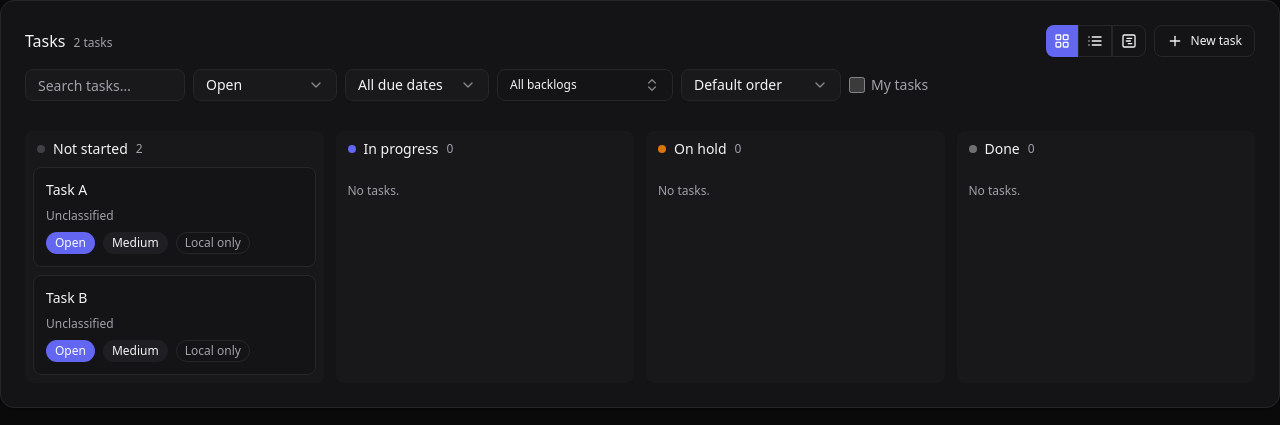
Test: TaskListSection › Bulk actions (issue #149) › reports a partial failure with counts and narrows the selection to the failed tasks
Click the button named "List".
click(1095, 41)  # box [1078,25,1112,57]
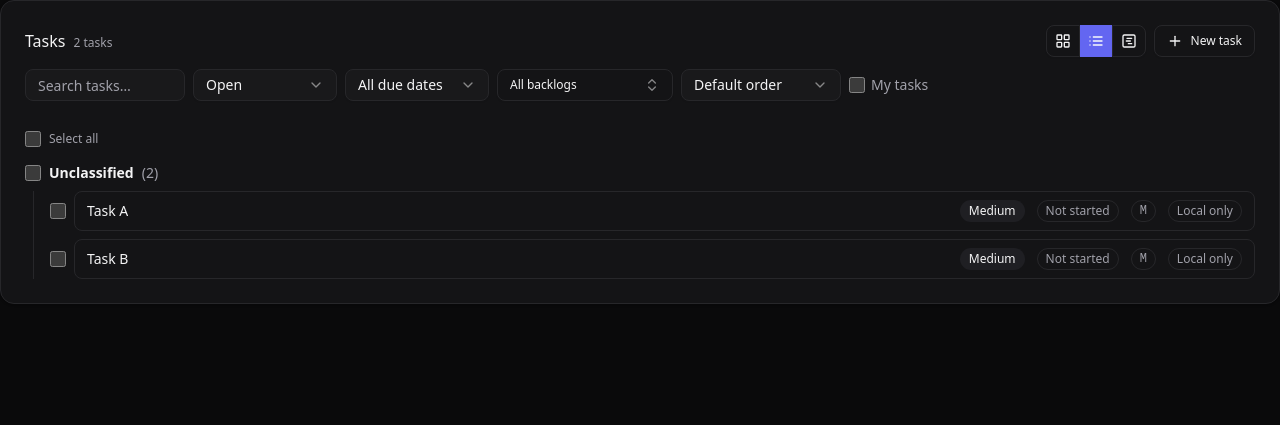
Click the checkbox named "Select all tasks".
click(33, 139)  # box [25,131,41,147]
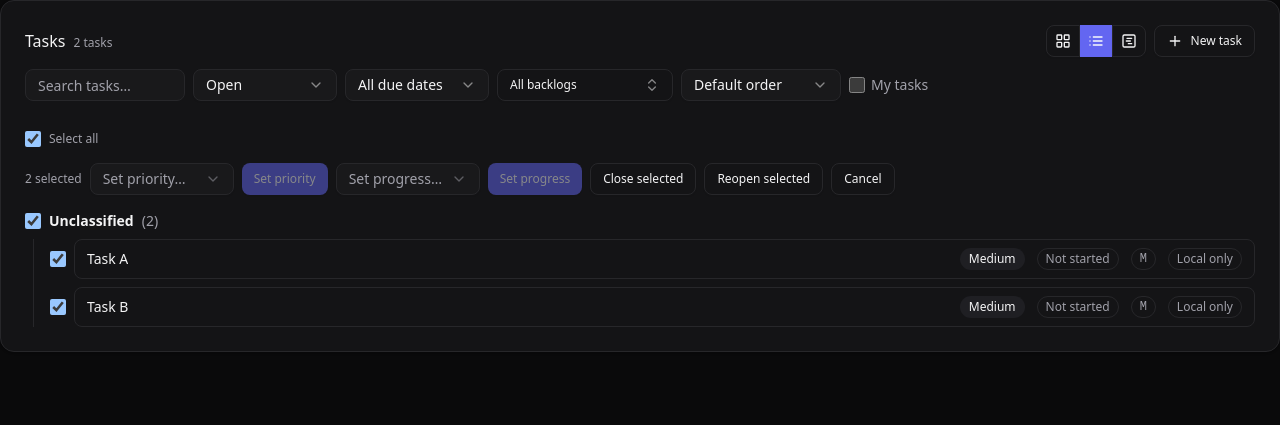
Click the button "Close selected".
click(643, 179)  # box [590,163,696,195]
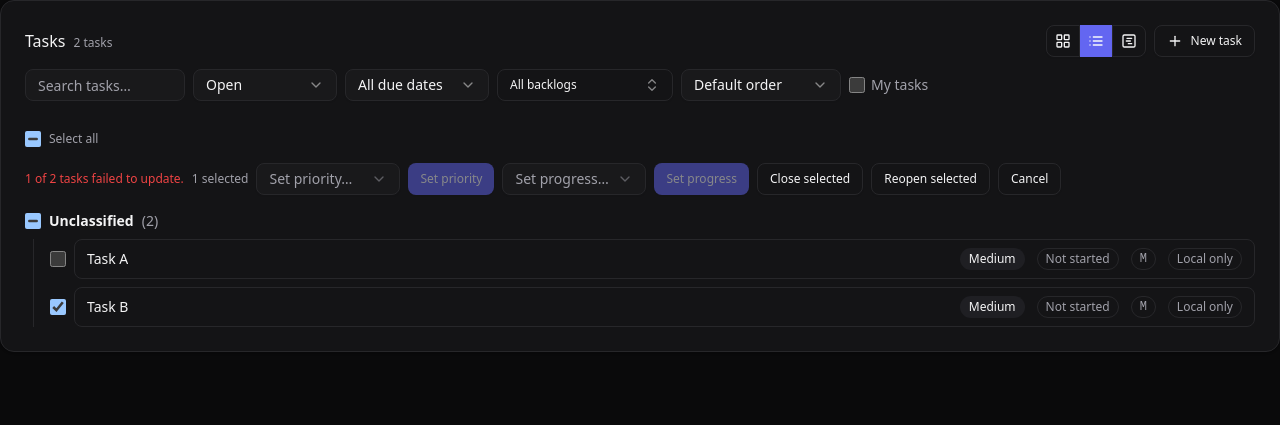
Now the checkbox named "Select Task B" is checked, box [50,299,66,315]
Now the text "1 of 2 tasks failed to update." is shown, box [25,171,184,187]
Now the text "1 selected" is shown, box [192,171,248,187]
